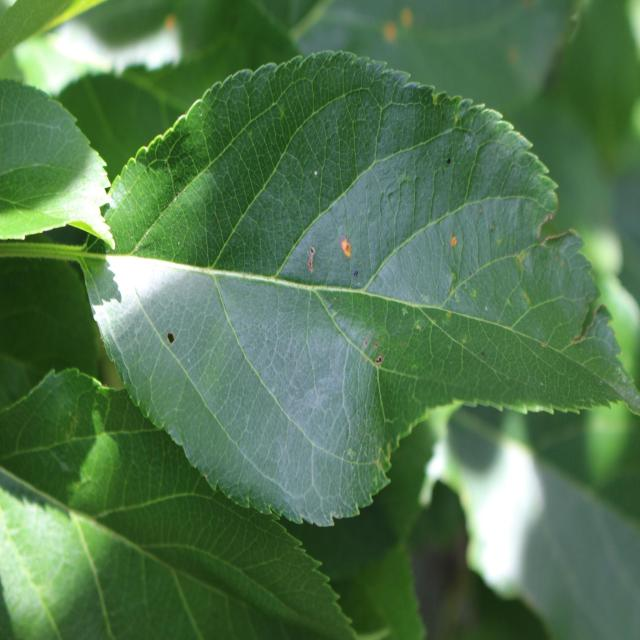Rust: (336, 226, 363, 272), (443, 220, 462, 265)
